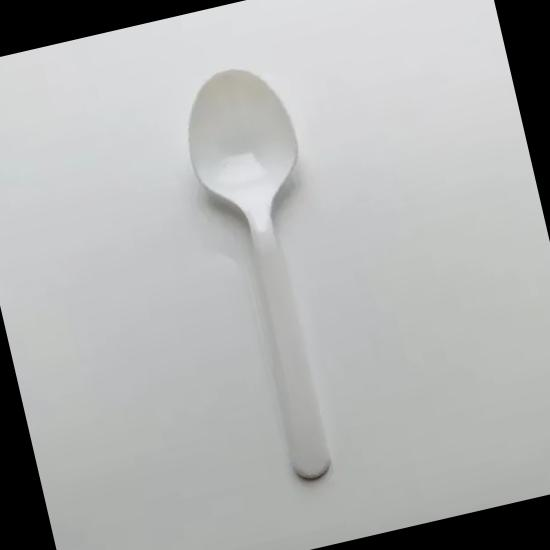Plastik: (189, 70, 329, 478)
